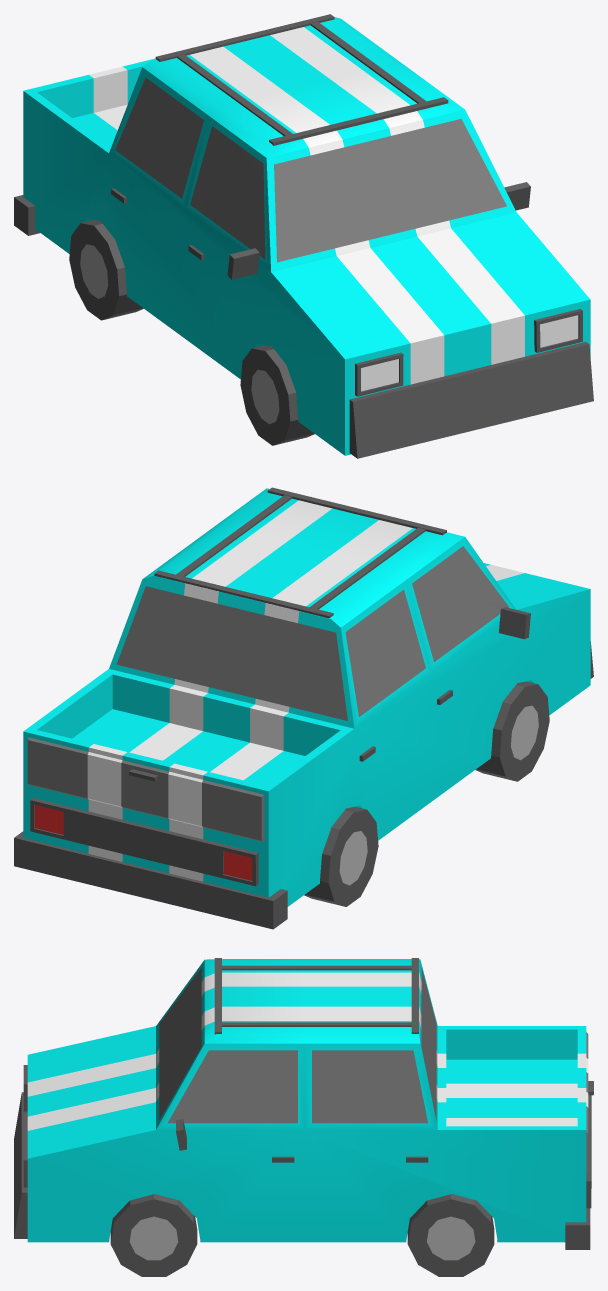
File: SM_Car_10_03.FBX
The picture shows the model from 3 angles, top to bottom: view 1: azimuth 30°, elevation 25°; view 2: azimuth 150°, elevation 25°; view 3: azimuth 270°, elevation 25°; orthographic projection. The views are drawn at different scales.
Parts seen in each view (by area): view 1: SM_Car_10_03, SM_Wheel_LFront002, SM_Wheel_RBack001; view 2: SM_Car_10_03, SM_Wheel_LFront002, SM_Wheel_RBack001; view 3: SM_Car_10_03, SM_Wheel_LFront001, SM_Wheel_LBack001.
Boxes of the visible parts, left/top/right/bottom form: SM_Car_10_03: left=14, top=14, right=593, bottom=458; SM_Wheel_LFront002: left=240, top=345, right=314, bottom=445; SM_Wheel_RBack001: left=69, top=220, right=143, bottom=320; SM_Car_10_03: left=14, top=487, right=593, bottom=929; SM_Wheel_LFront002: left=475, top=681, right=549, bottom=781; SM_Wheel_RBack001: left=304, top=806, right=378, bottom=906; SM_Car_10_03: left=14, top=958, right=593, bottom=1249; SM_Wheel_LFront001: left=110, top=1194, right=197, bottom=1276; SM_Wheel_LBack001: left=407, top=1194, right=494, bottom=1276.
Bounding box in the file's own units: 1.7 × 1.43 × 3.31.
1 material, 1 textured.
